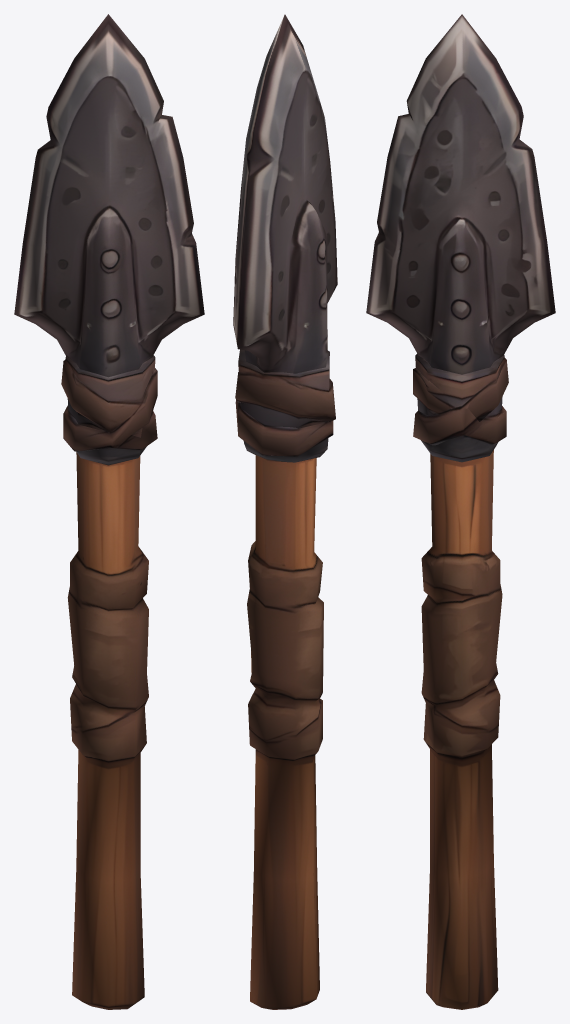
The model's file is grunt_spear_tripo.glb.
3 renders of one model, left to right at view 1: azimuth 90°, elevation 25°; view 2: azimuth 150°, elevation 25°; view 3: azimuth 270°, elevation 25°, orthographic.
Parts seen in each view (by area): view 1: tripo_node_f6aff073-fea4-4691-a1f1-0779a16ac6a6; view 2: tripo_node_f6aff073-fea4-4691-a1f1-0779a16ac6a6; view 3: tripo_node_f6aff073-fea4-4691-a1f1-0779a16ac6a6.
Boxes of the visible parts, x1,y1,x2,y2 form: tripo_node_f6aff073-fea4-4691-a1f1-0779a16ac6a6: (14, 14, 204, 1009); tripo_node_f6aff073-fea4-4691-a1f1-0779a16ac6a6: (233, 14, 337, 1009); tripo_node_f6aff073-fea4-4691-a1f1-0779a16ac6a6: (366, 14, 555, 1009).
Bounding box in the file's own units: 0.1035 × 0.998 × 0.1738.
1 material, 1 textured.
